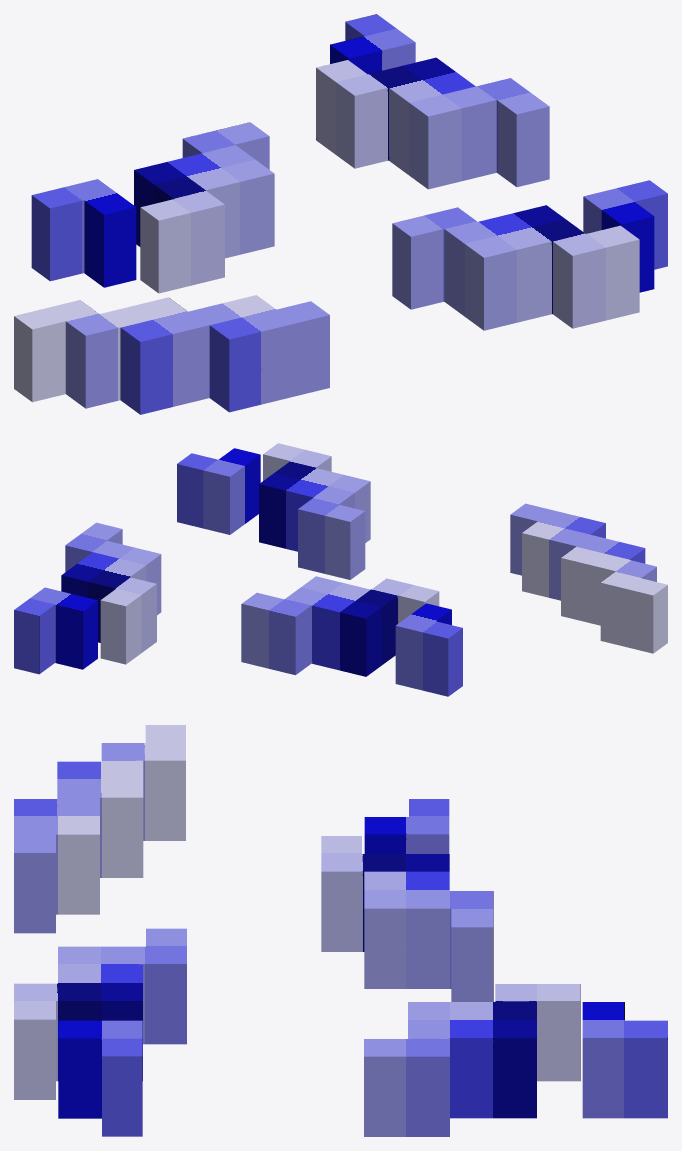
File: broken_dish_546x15.gltf
3 views of the same model, one above another, from view 1: azimuth 30°, elevation 25°; view 2: azimuth 150°, elevation 25°; view 3: azimuth 270°, elevation 25° (orthographic). The views are drawn at different scales.
Parts seen in each view (by area): view 1: broken_dish_546x15; view 2: broken_dish_546x15; view 3: broken_dish_546x15.
Part boxes in pixels (x1,y1,x2,y2): broken_dish_546x15: (14, 14, 667, 414); broken_dish_546x15: (14, 443, 667, 696); broken_dish_546x15: (14, 725, 667, 1136).
Size of the model in its own units: 0.8387 by 0.0947 by 0.6992.
Materials: 1 (1 with a texture image).
